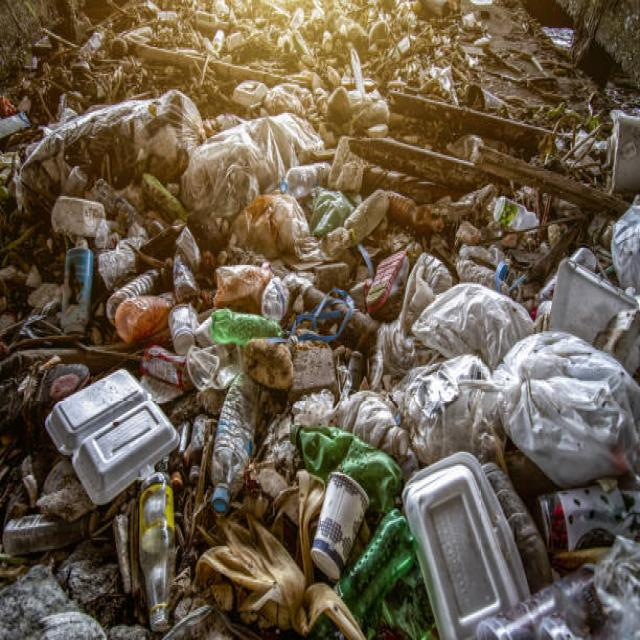trash: (14, 20, 626, 578)
